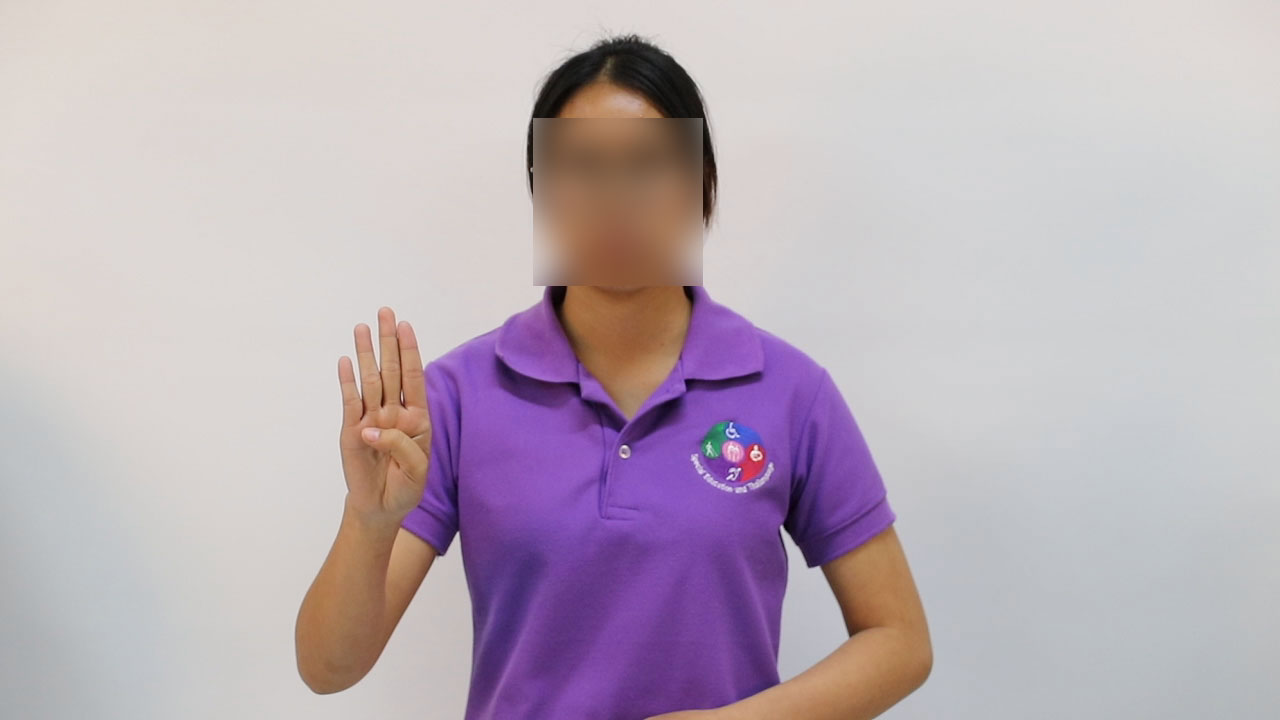bor: (313, 276, 447, 540)
